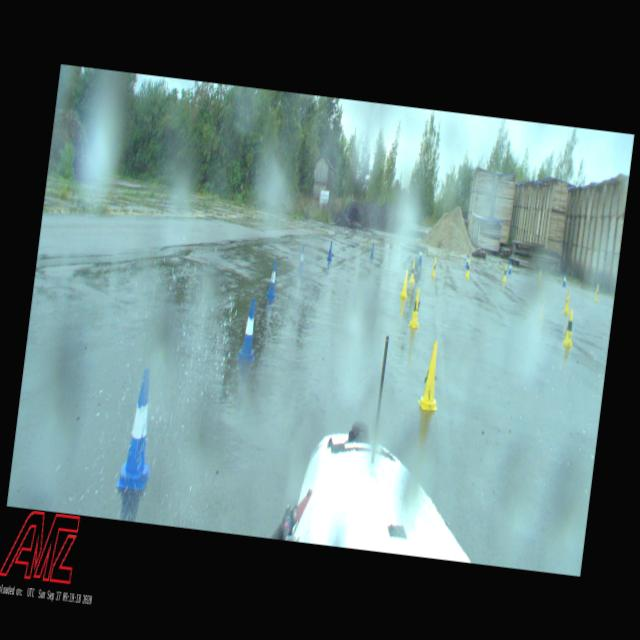blue_cone: (116, 367, 163, 490), (237, 296, 261, 360), (266, 259, 280, 299), (298, 246, 305, 269), (327, 240, 334, 261), (418, 246, 424, 262), (507, 258, 512, 274), (562, 272, 566, 286), (370, 242, 374, 256), (465, 254, 469, 266)
yellow_cone: (416, 340, 445, 410), (408, 288, 423, 328), (562, 310, 576, 346), (400, 269, 410, 298), (562, 288, 572, 314), (408, 261, 416, 283), (430, 257, 438, 276), (464, 260, 471, 278), (536, 268, 542, 284), (594, 284, 599, 302), (502, 263, 507, 280)
